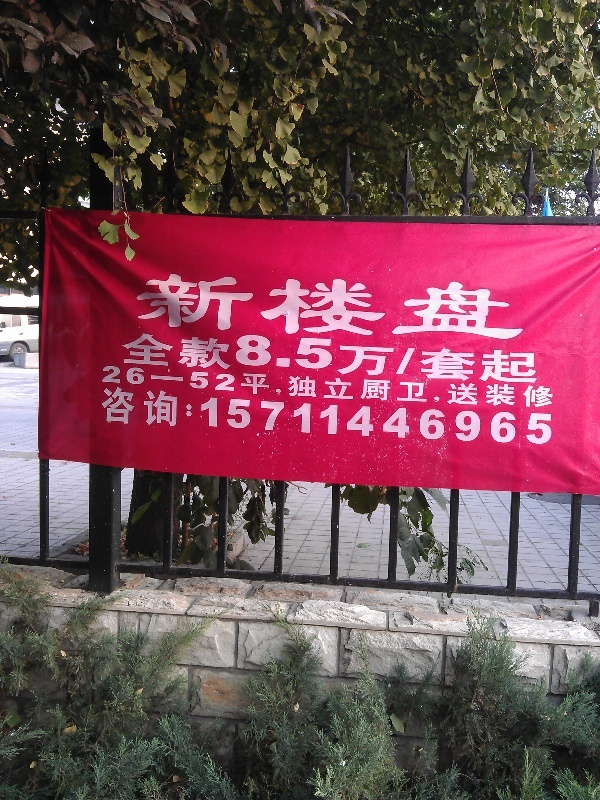text: (145, 263, 160, 345), (161, 263, 176, 345), (177, 263, 192, 345), (193, 263, 208, 345), (209, 263, 224, 345), (225, 263, 240, 345), (241, 263, 256, 345), (257, 263, 272, 345), (273, 263, 288, 345), (289, 263, 304, 345), (305, 263, 320, 345), (321, 263, 336, 345), (337, 263, 352, 345), (353, 263, 368, 345), (369, 263, 384, 345), (385, 263, 400, 345), (401, 263, 416, 345), (417, 263, 432, 345), (433, 263, 448, 345), (449, 263, 464, 345), (465, 263, 480, 345), (481, 263, 496, 345), (497, 263, 512, 345), (513, 263, 528, 345), (113, 388, 128, 449), (129, 388, 144, 449), (145, 388, 160, 449), (161, 388, 176, 449), (177, 388, 192, 449), (193, 388, 208, 449), (209, 388, 224, 449), (225, 388, 240, 449), (241, 388, 256, 449), (257, 388, 272, 449), (273, 388, 288, 449), (289, 388, 304, 449), (305, 388, 320, 449), (321, 388, 336, 449), (337, 388, 352, 449), (353, 388, 368, 449), (369, 388, 384, 449), (385, 388, 400, 449), (401, 388, 416, 449), (417, 388, 432, 449), (433, 388, 448, 449), (449, 388, 464, 449), (465, 388, 480, 449), (481, 388, 496, 449), (497, 388, 512, 449), (513, 388, 528, 449), (529, 388, 544, 449), (129, 327, 144, 386), (145, 327, 160, 386), (161, 327, 176, 386), (177, 327, 192, 386), (193, 327, 208, 386), (209, 327, 224, 386), (225, 327, 240, 386), (241, 327, 256, 386), (257, 327, 272, 386), (273, 327, 288, 386), (289, 327, 304, 386), (305, 327, 320, 386), (321, 327, 336, 386), (337, 327, 352, 386), (353, 327, 368, 386), (369, 327, 384, 386), (385, 327, 400, 386), (401, 327, 416, 386), (417, 327, 432, 386), (433, 327, 448, 386), (449, 327, 464, 386), (465, 327, 480, 386), (481, 327, 496, 386), (497, 327, 512, 386), (513, 327, 528, 386), (529, 327, 544, 386), (135, 263, 144, 345), (113, 363, 128, 411), (129, 363, 144, 411), (145, 363, 160, 411), (161, 363, 176, 411), (177, 363, 192, 411), (193, 363, 208, 411), (209, 363, 224, 411), (225, 363, 240, 411), (241, 363, 256, 411), (257, 363, 272, 411), (273, 363, 288, 411), (289, 363, 304, 411), (305, 363, 320, 411), (321, 363, 336, 411), (337, 363, 352, 411), (353, 363, 368, 411), (369, 363, 384, 411), (385, 363, 400, 411), (401, 363, 416, 411), (417, 363, 432, 411), (433, 363, 448, 411), (449, 363, 464, 411), (465, 363, 480, 411), (481, 363, 496, 411), (497, 363, 512, 411), (513, 363, 528, 411), (529, 363, 544, 411), (545, 388, 556, 449), (545, 363, 558, 411), (102, 388, 112, 449), (100, 363, 112, 411), (121, 327, 128, 386)
